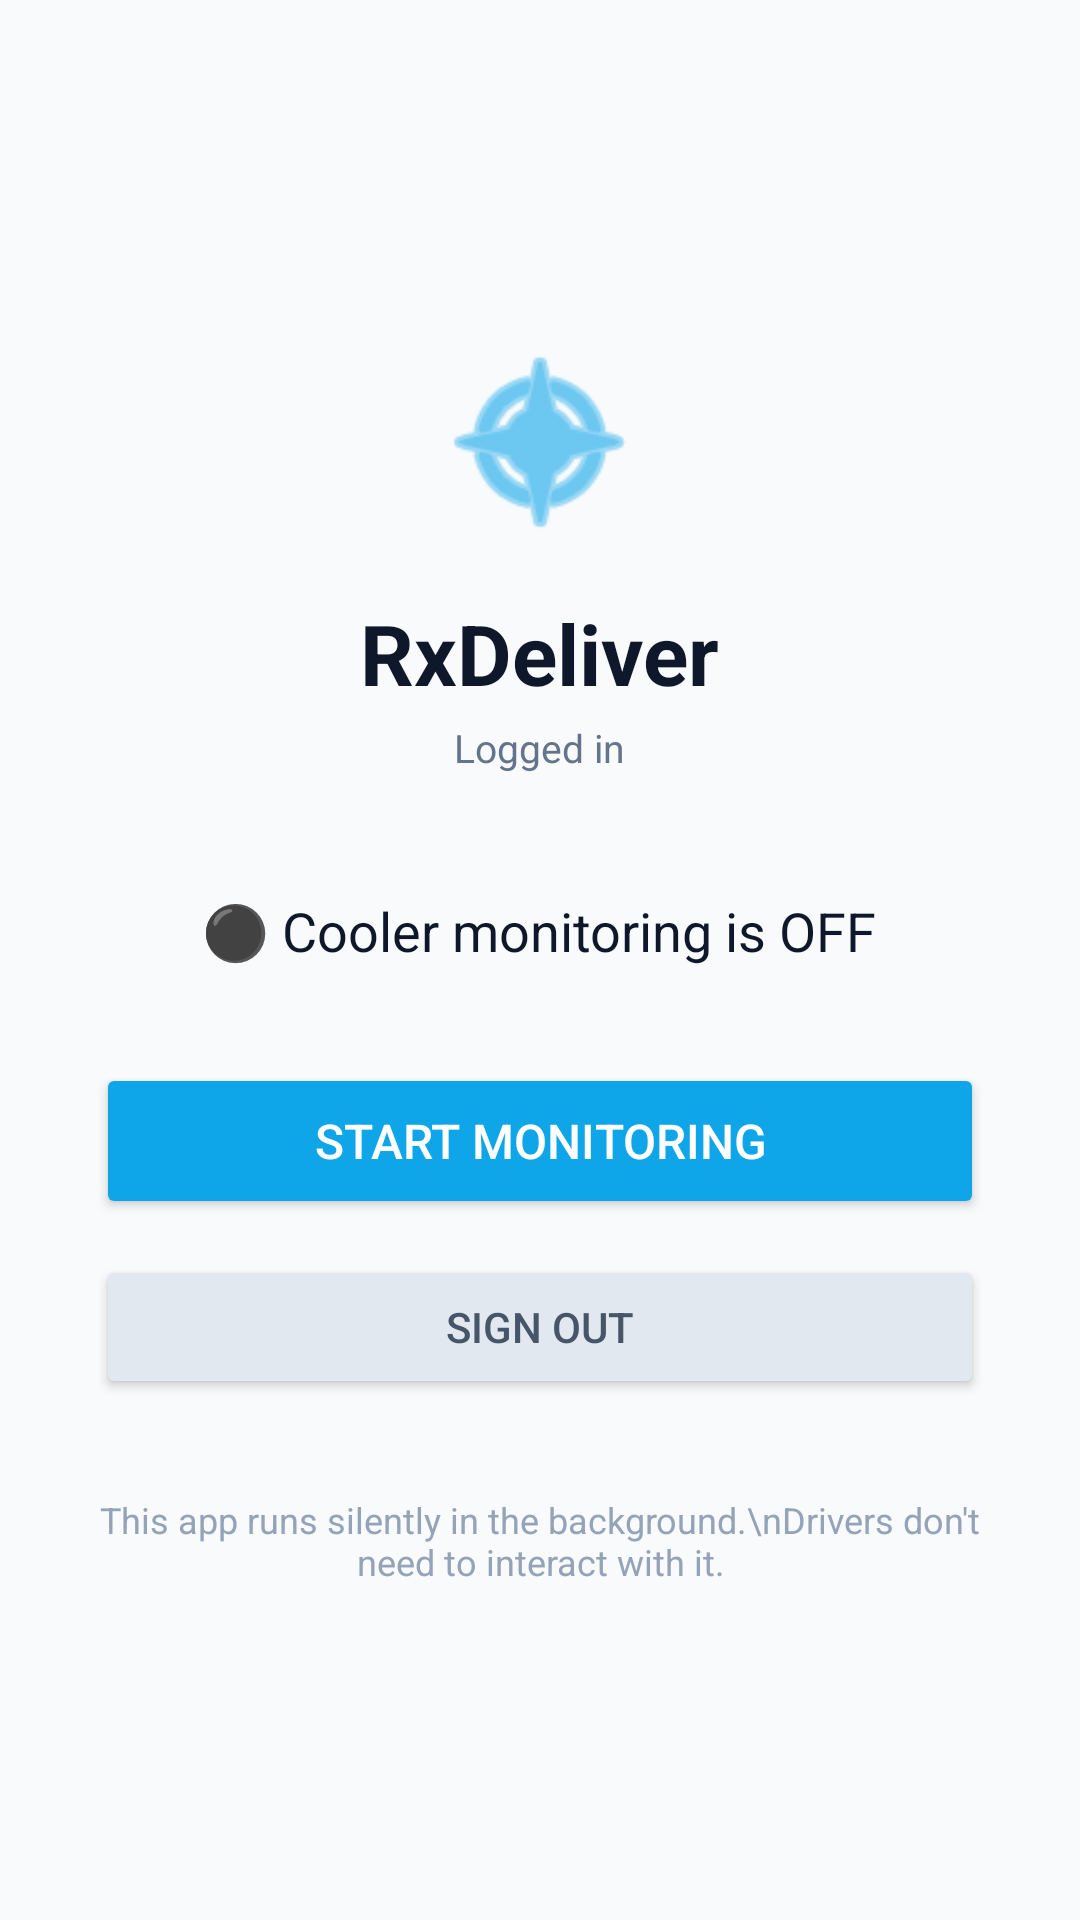

Where to tap for icons on this 1080 x 1920 app screen, as (x,y):
compass: (539,442)
